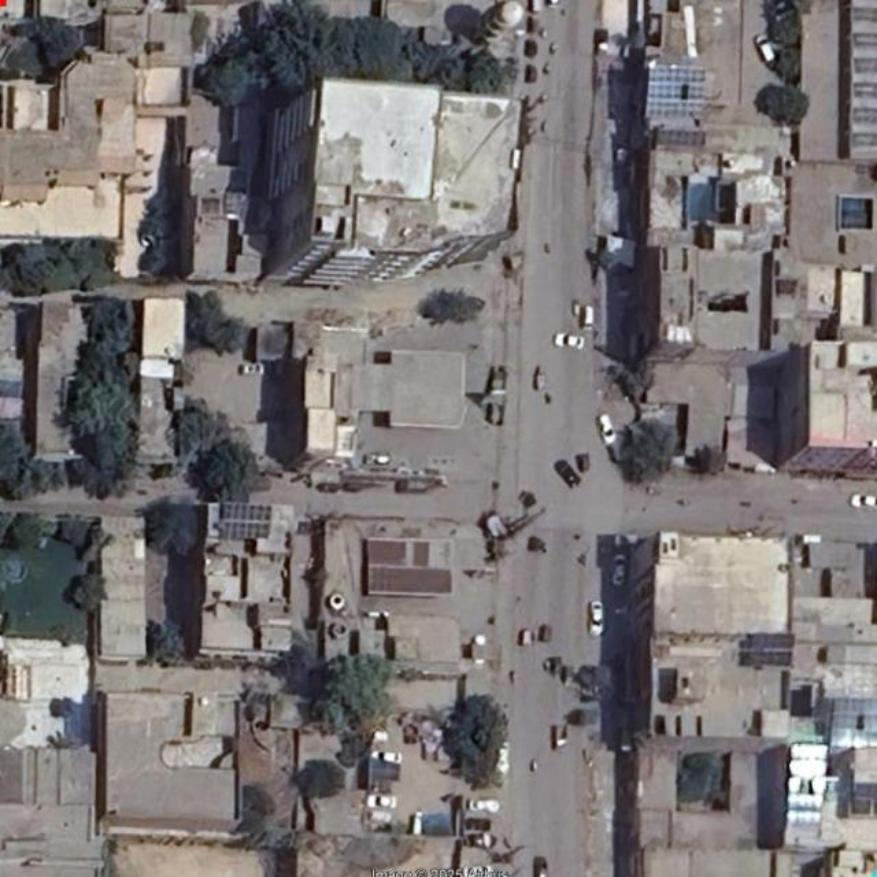Solarpanel: (784, 743, 829, 823), (645, 65, 706, 117), (829, 696, 876, 749), (219, 506, 271, 540), (749, 631, 794, 664)
